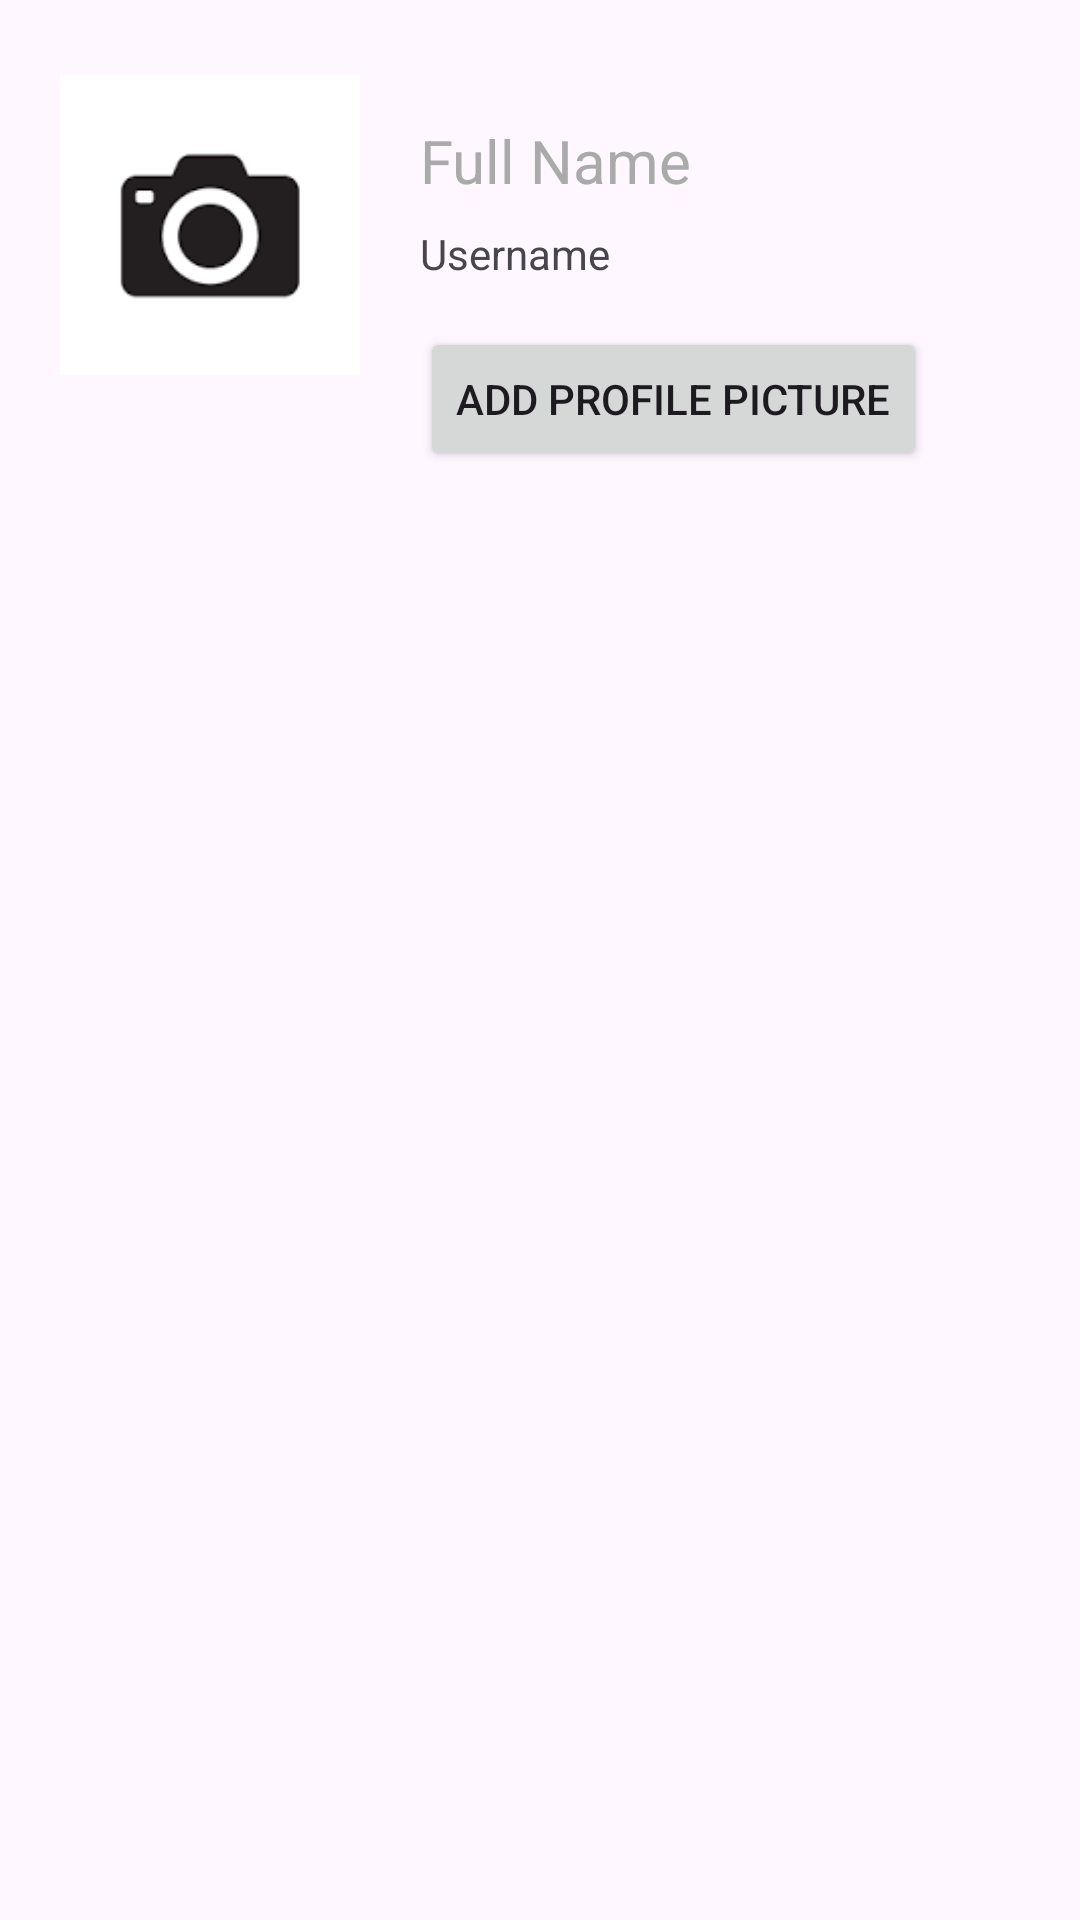

Locate icon controls on the screen. Image size 1080*1920, boxes as Rect(x1, y1, x2, y2).
camera: Rect(120, 153, 300, 298)
